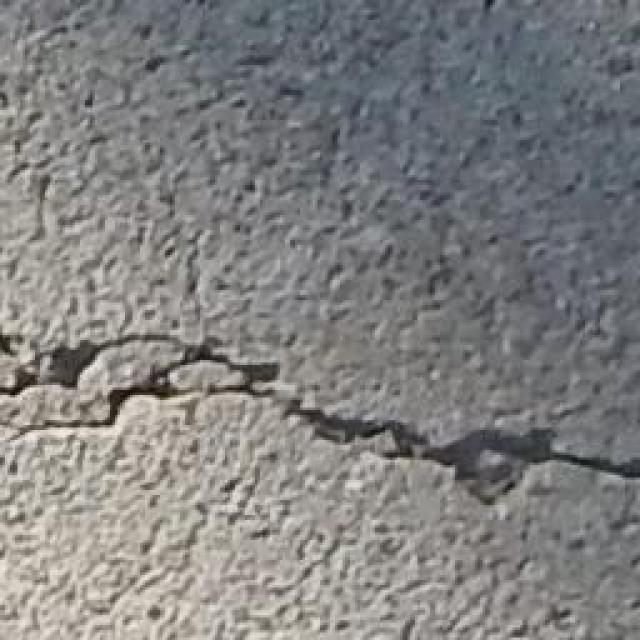concrete-crack: (0, 315, 640, 522)
